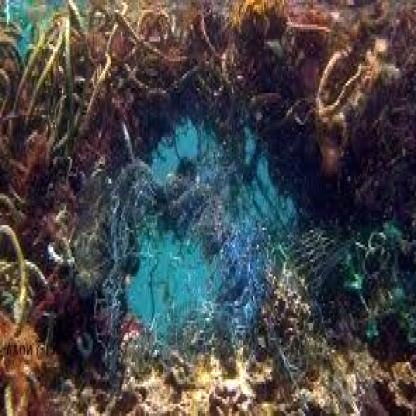net: (1, 2, 416, 416)
